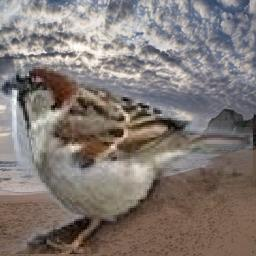Sparrow: (0, 60, 253, 255)
